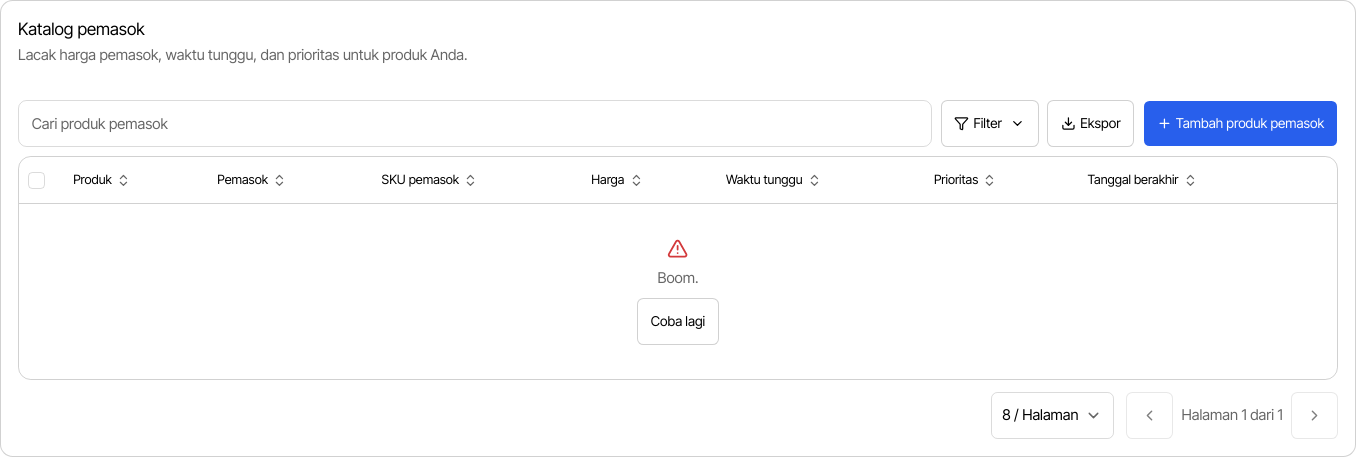
Test: SupplierCatalogSection extra2 › retries after a load error
Check: the text "Boom." is shown, box [658,268,699,290]
Click the button "Coba lagi". click: (678, 321)
box: [637,298,719,345]
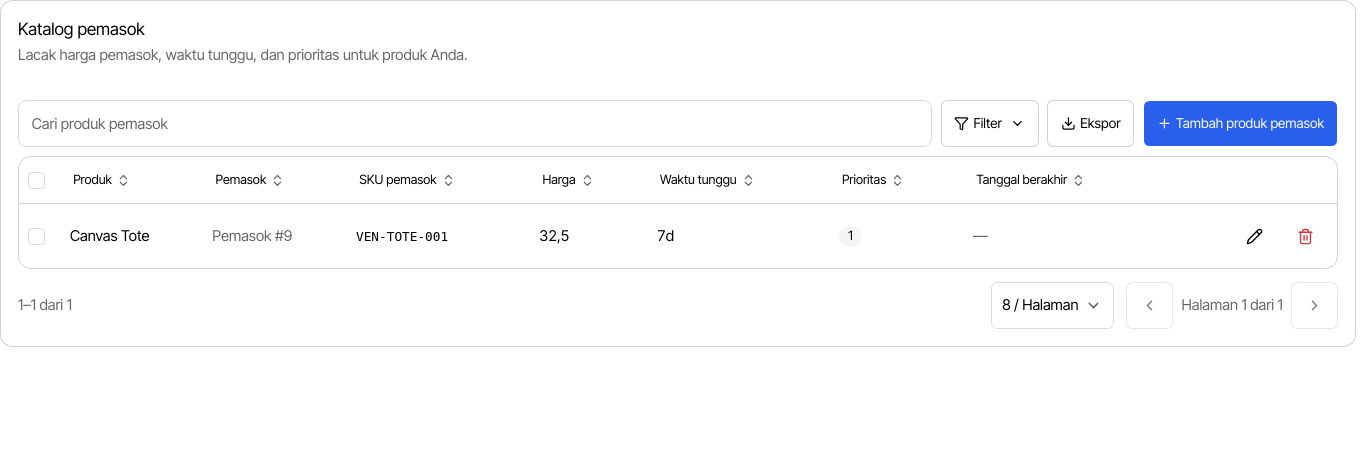
Check: the text "VEN-TOTE-001" is shown, box [356,229,448,244]
